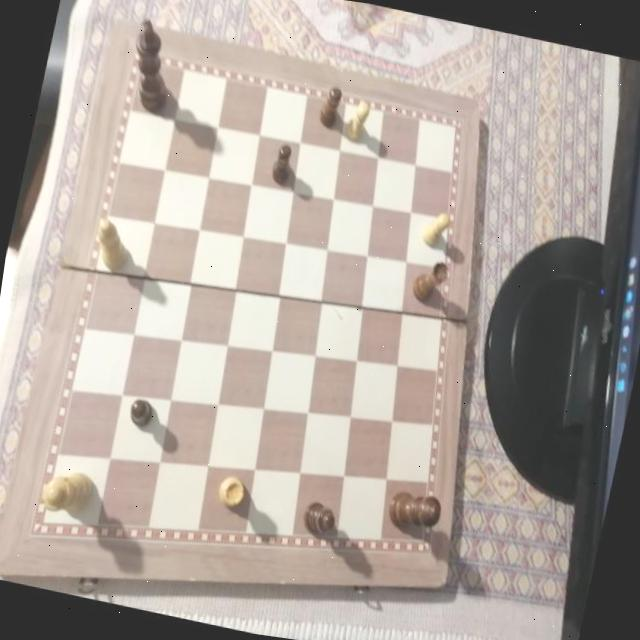corners: (105, 15, 128, 36), (432, 575, 450, 596), (470, 93, 486, 111), (0, 557, 7, 585)
